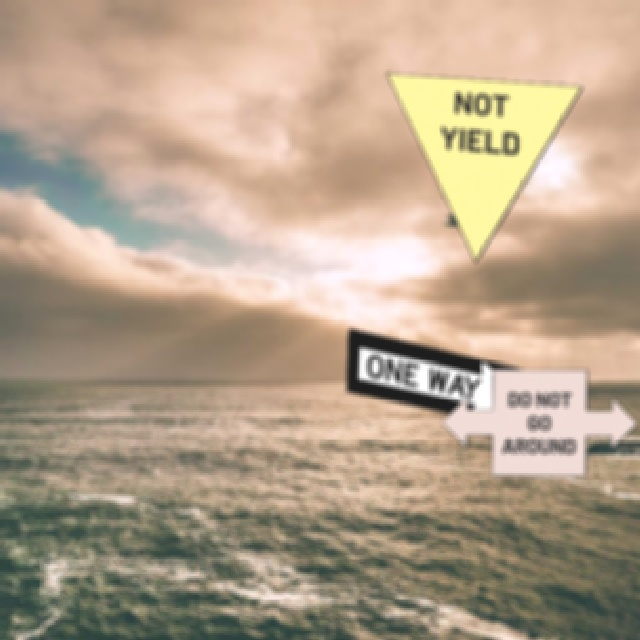DO_NOT_GO_AROUND: (439, 367, 637, 476)
NOT_YIELD: (384, 71, 582, 262)
ONE_WAY_ right: (344, 326, 542, 429)
